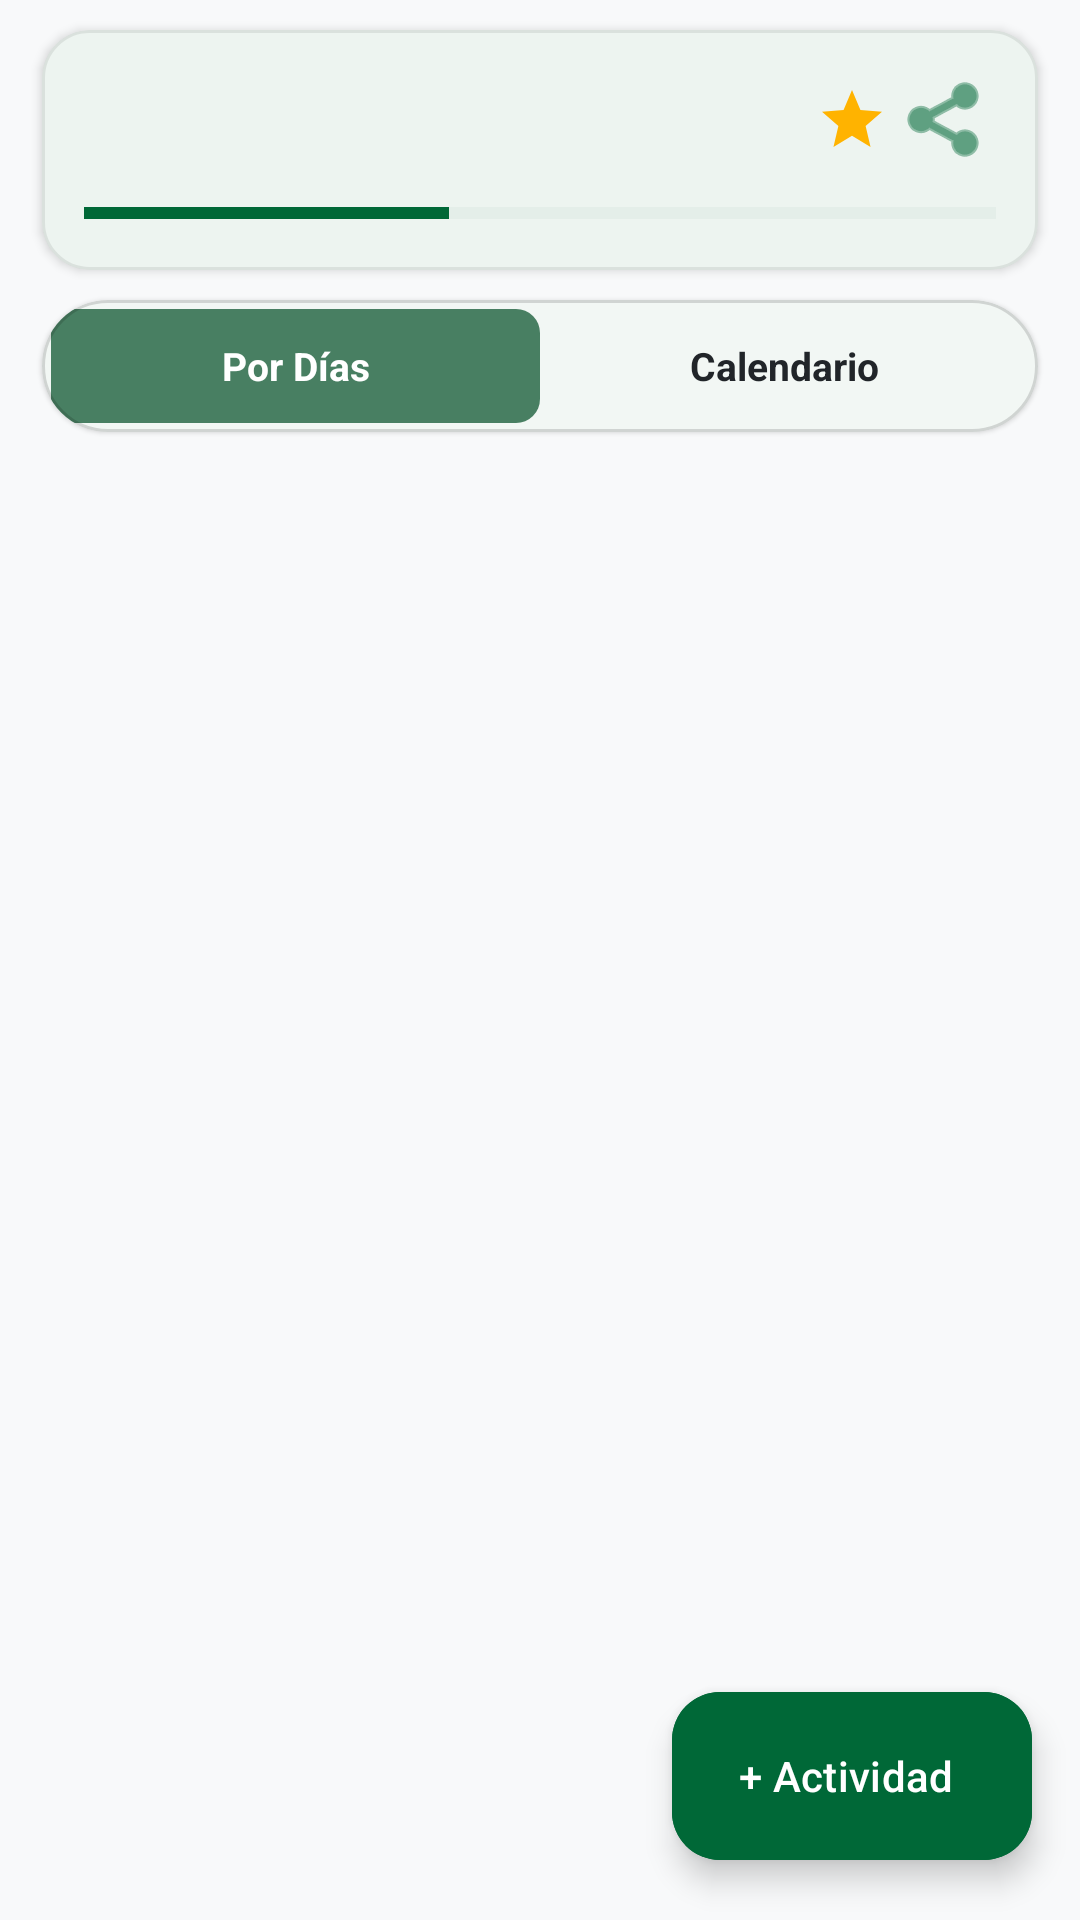

Where icons sit on this 1080w x 1920h app screen, as Rect(x1, y1, x2, y2):
Compartir itinerario: Rect(907, 82, 979, 157)
